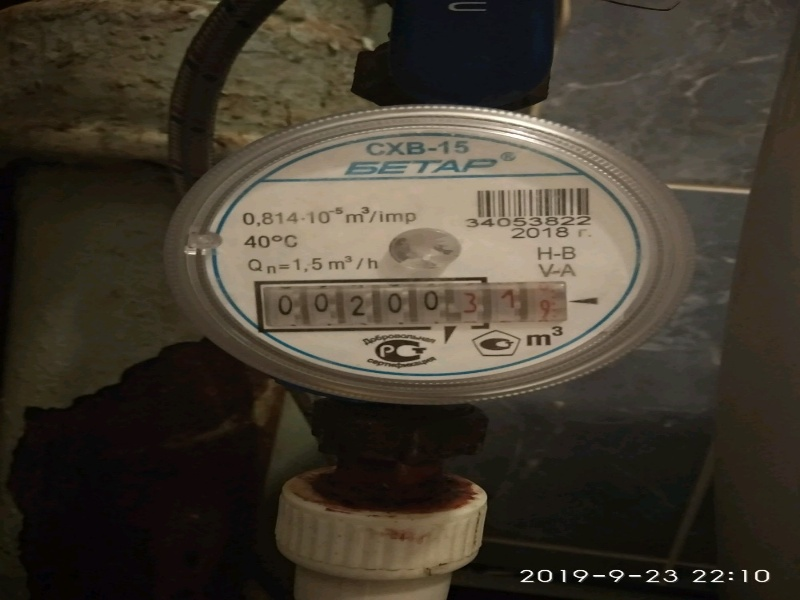meter: (255, 276, 562, 324)
